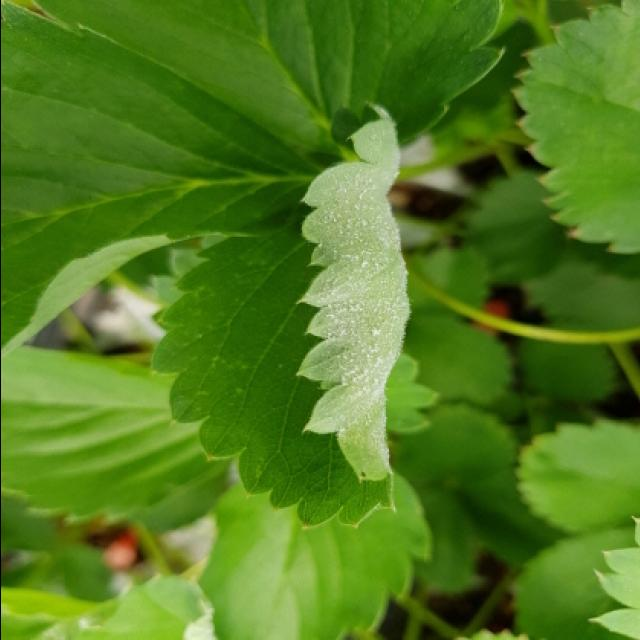Powdery Mildew Leaf: (147, 99, 411, 529)
